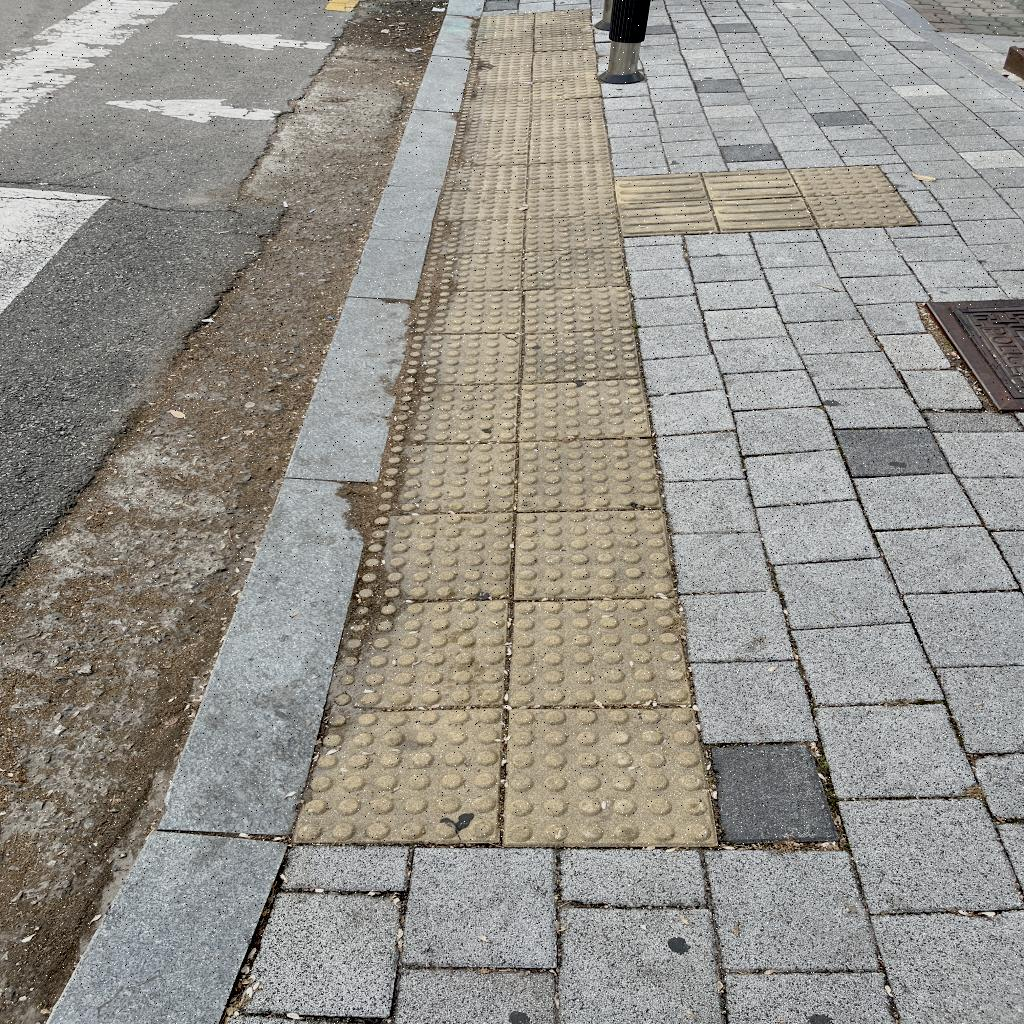Stop block normal: (509, 600, 690, 704), (516, 439, 659, 511), (805, 192, 918, 227), (434, 190, 526, 220), (528, 134, 610, 164)
